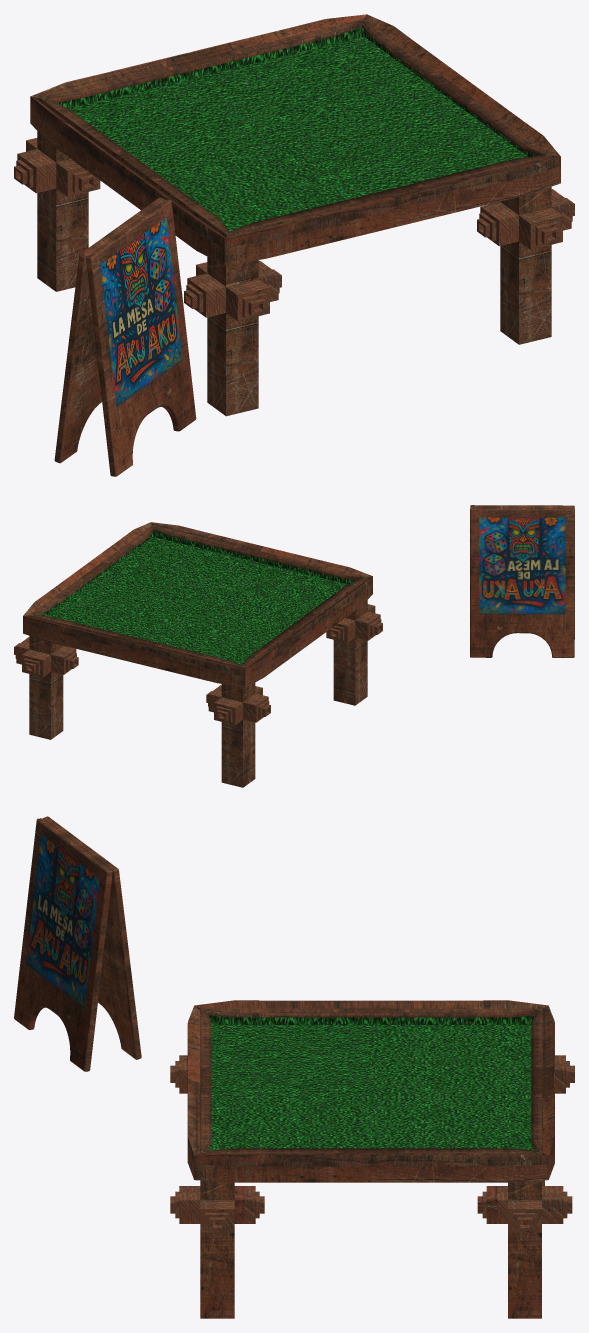
Rendered from mesa_dados.obj.
The picture shows the model from 3 angles, top to bottom: view 1: azimuth 30°, elevation 25°; view 2: azimuth 150°, elevation 25°; view 3: azimuth 270°, elevation 25°; orthographic projection. The views are drawn at different scales.
Parts seen in each view (by area): view 1: Table_with_dice.005, Wood_Poster_Diplay_Stand; view 2: Table_with_dice.005, Wood_Poster_Diplay_Stand; view 3: Table_with_dice.005, Wood_Poster_Diplay_Stand.
Boxes of the visible parts, box(x1,y1,x2,y2) form: Table_with_dice.005: box(14, 14, 574, 416); Wood_Poster_Diplay_Stand: box(54, 197, 196, 476); Table_with_dice.005: box(14, 522, 382, 787); Wood_Poster_Diplay_Stand: box(470, 505, 574, 657); Table_with_dice.005: box(170, 1000, 574, 1318); Wood_Poster_Diplay_Stand: box(14, 816, 141, 1071).
Size of the model in its own units: 1.74 by 0.7774 by 1.55.
